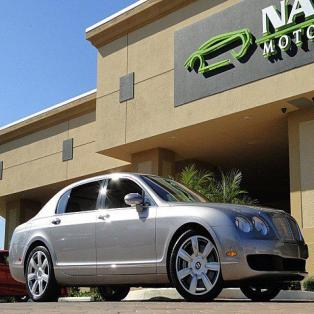Auto: (8, 170, 310, 303)
